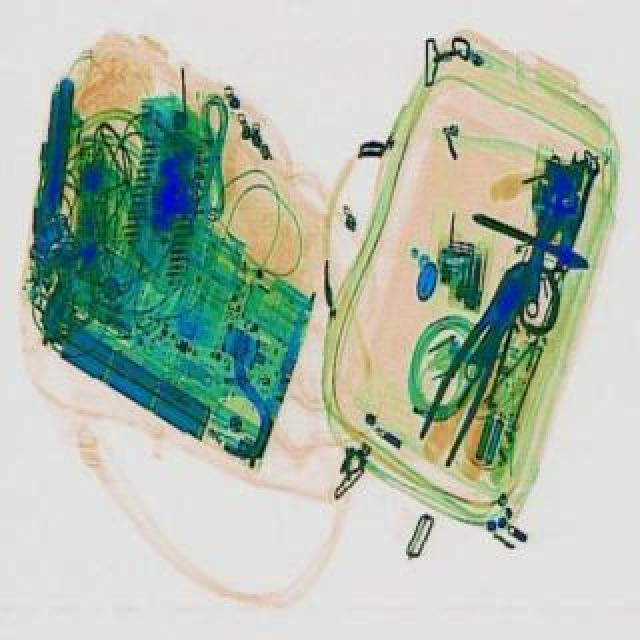wrench: (402, 248, 550, 468)
